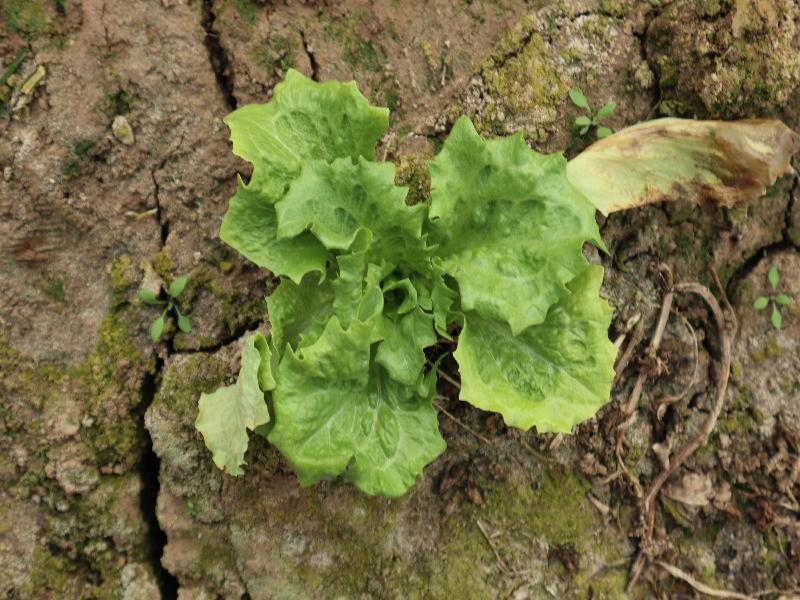lettuce: (218, 66, 620, 496)
